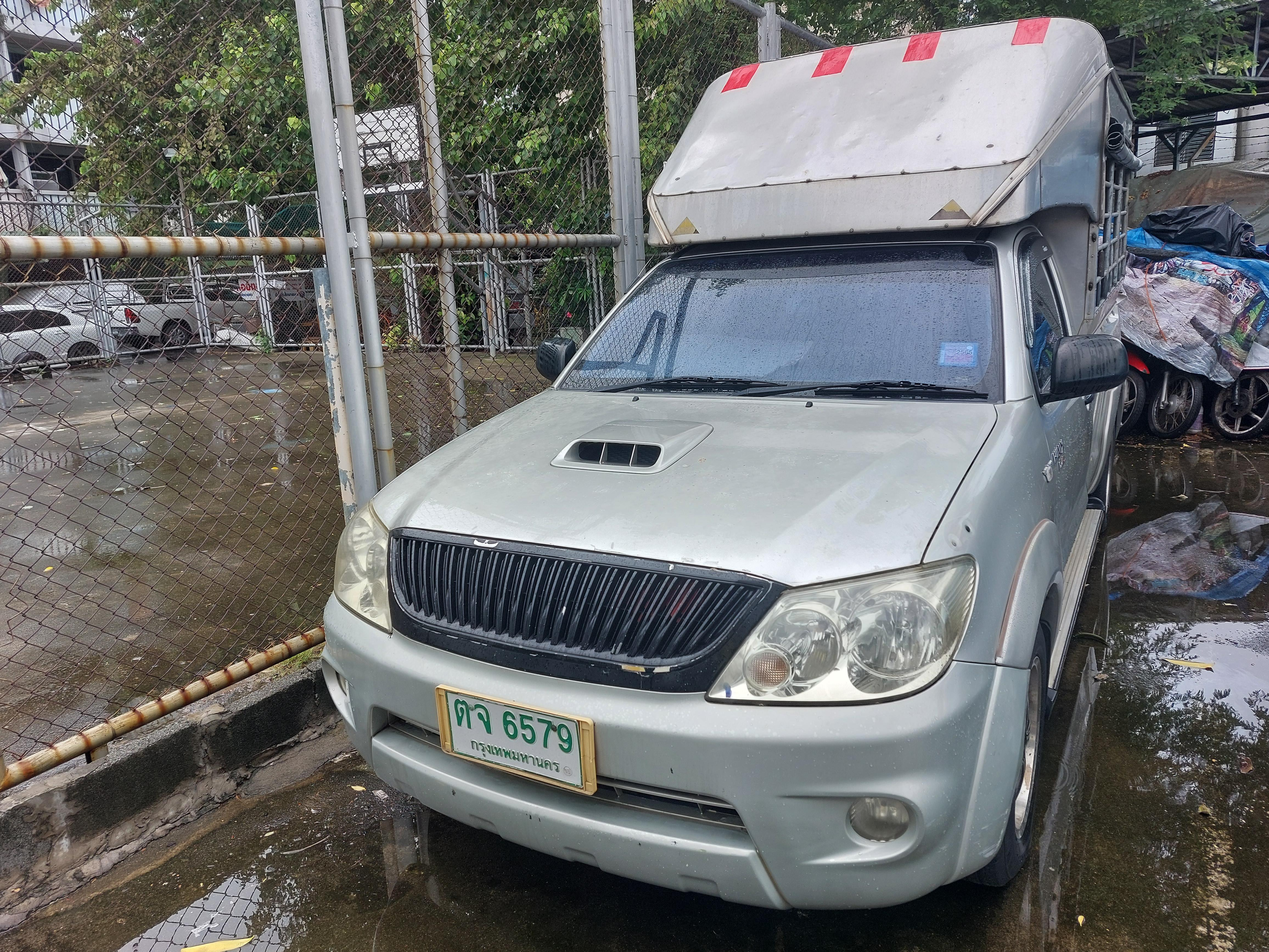license-plate: (433, 675, 604, 798)
